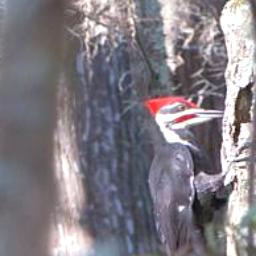Woodpecker: (140, 95, 256, 256)
